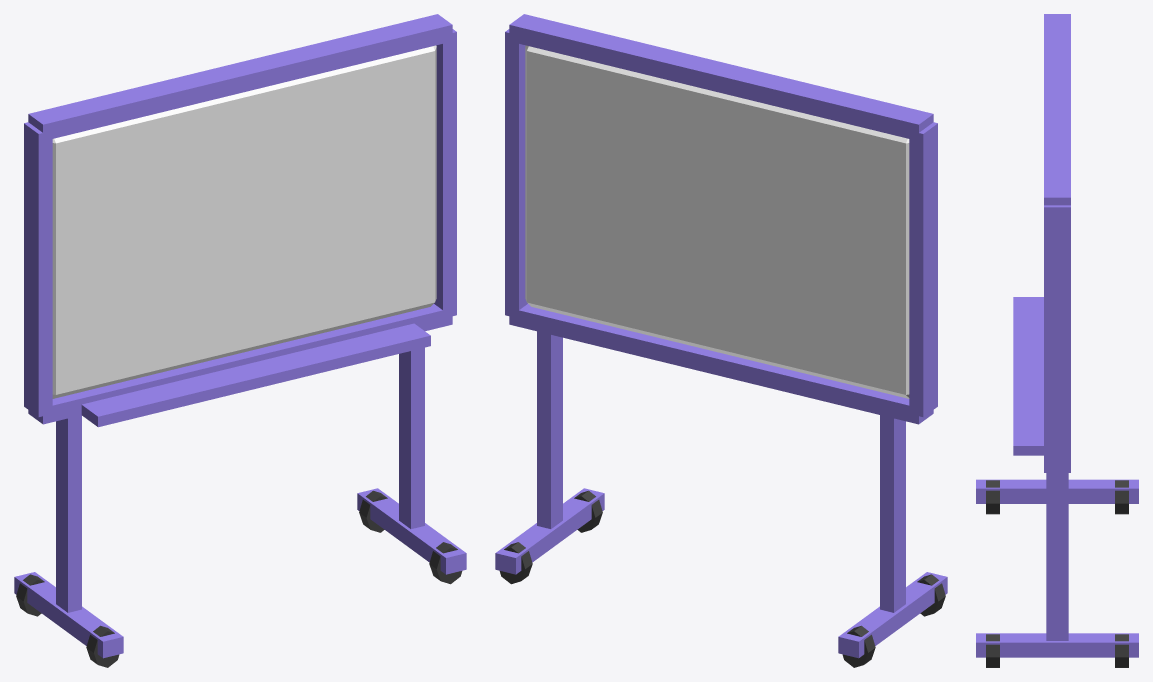
3 views of the same model, side by side, from view 1: azimuth 30°, elevation 25°; view 2: azimuth 150°, elevation 25°; view 3: azimuth 270°, elevation 25° (orthographic). The views are drawn at different scales.
Parts seen in each view (by area): view 1: Writing surface, Frame rail.001, Marker ledge, Frame upright, Frame rail, Frame upright.001, Stand, Stand.001, Caster beam, Caster beam.001; view 2: Writing surface, Frame rail.001, Frame rail, Frame upright, Frame upright.001, Stand.001, Stand, Caster beam, Caster beam.001; view 3: Frame upright.001, Frame rail.001, Marker ledge, Stand.001, Caster beam.001, Caster beam, Wheel, Wheel.001, Wheel.002, Wheel.003.
Boxes of the visible parts, bbox=[...] form: Writing surface: bbox=[52, 45, 436, 398]; Frame rail.001: bbox=[28, 14, 452, 141]; Marker ledge: bbox=[81, 323, 430, 427]; Frame upright: bbox=[24, 122, 52, 417]; Frame rail: bbox=[28, 304, 452, 424]; Frame upright.001: bbox=[434, 29, 456, 318]; Stand: bbox=[56, 415, 81, 612]; Stand.001: bbox=[399, 347, 424, 528]; Caster beam: bbox=[14, 572, 123, 658]; Caster beam.001: bbox=[357, 488, 466, 574]; Writing surface: bbox=[525, 45, 909, 398]; Frame rail.001: bbox=[509, 14, 933, 141]; Frame rail: bbox=[509, 304, 933, 424]; Frame upright: bbox=[909, 122, 937, 417]; Frame upright.001: bbox=[505, 29, 527, 318]; Stand.001: bbox=[537, 331, 562, 528]; Stand: bbox=[880, 415, 905, 612]; Caster beam: bbox=[838, 572, 947, 658]; Caster beam.001: bbox=[495, 488, 604, 574]; Frame upright.001: bbox=[1044, 205, 1070, 467]; Frame rail.001: bbox=[1044, 14, 1070, 205]; Marker ledge: bbox=[1013, 297, 1043, 455]; Stand.001: bbox=[1046, 473, 1068, 640]; Caster beam.001: bbox=[976, 633, 1138, 657]; Caster beam: bbox=[976, 479, 1138, 503]; Wheel: bbox=[986, 480, 999, 514]; Wheel.001: bbox=[1115, 480, 1128, 514]; Wheel.002: bbox=[986, 634, 999, 667]; Wheel.003: bbox=[1115, 634, 1128, 667].
Bounding box in the file's own units: 1.31 × 1.58 × 0.48.
1 material, 1 textured.
